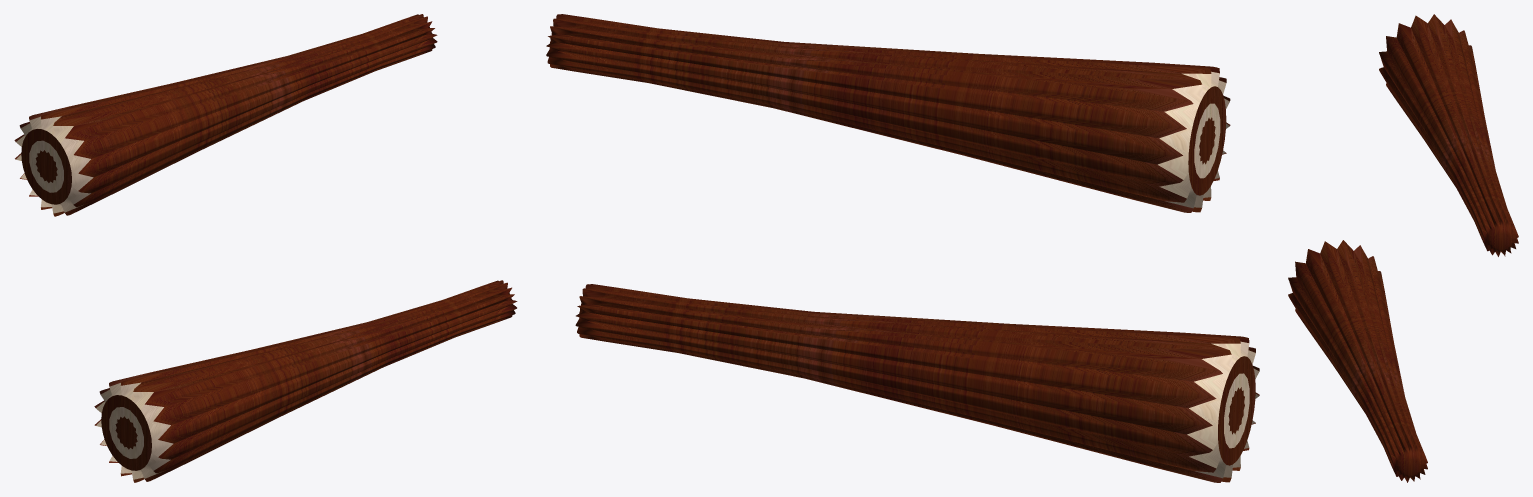
File: 左弦轴.FBX
The picture shows the model from 3 angles, left to right: view 1: azimuth 30°, elevation 25°; view 2: azimuth 150°, elevation 25°; view 3: azimuth 270°, elevation 25°; orthographic projection. The views are drawn at different scales.
Parts seen in each view (by area): view 1: 对象049, 对象051, 对象052, 对象050; view 2: 对象051, 对象049, 对象052, 对象050; view 3: 对象051, 对象049.
Part boxes in pixels (x1,y1,x2,y2): 对象049: [94, 280, 517, 482]; 对象051: [14, 14, 437, 216]; 对象052: [16, 116, 93, 213]; 对象050: [96, 382, 173, 479]; 对象051: [546, 14, 1230, 212]; 对象049: [575, 284, 1259, 482]; 对象052: [1158, 71, 1229, 208]; 对象050: [1187, 341, 1259, 478]; 对象051: [1379, 14, 1518, 256]; 对象049: [1288, 240, 1427, 482].
Size of the model in its own units: 85.4 by 58.63 by 41.13.
Materials: 2 (2 with a texture image).
